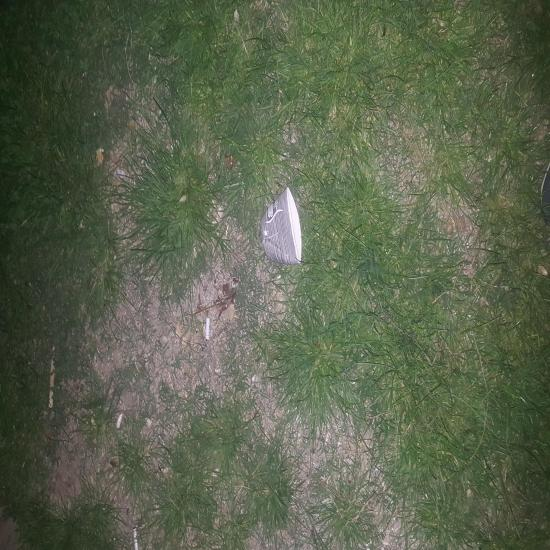Plastic film: (190, 281, 208, 318), (217, 255, 225, 271)
Plastic straw: (152, 184, 320, 214)
